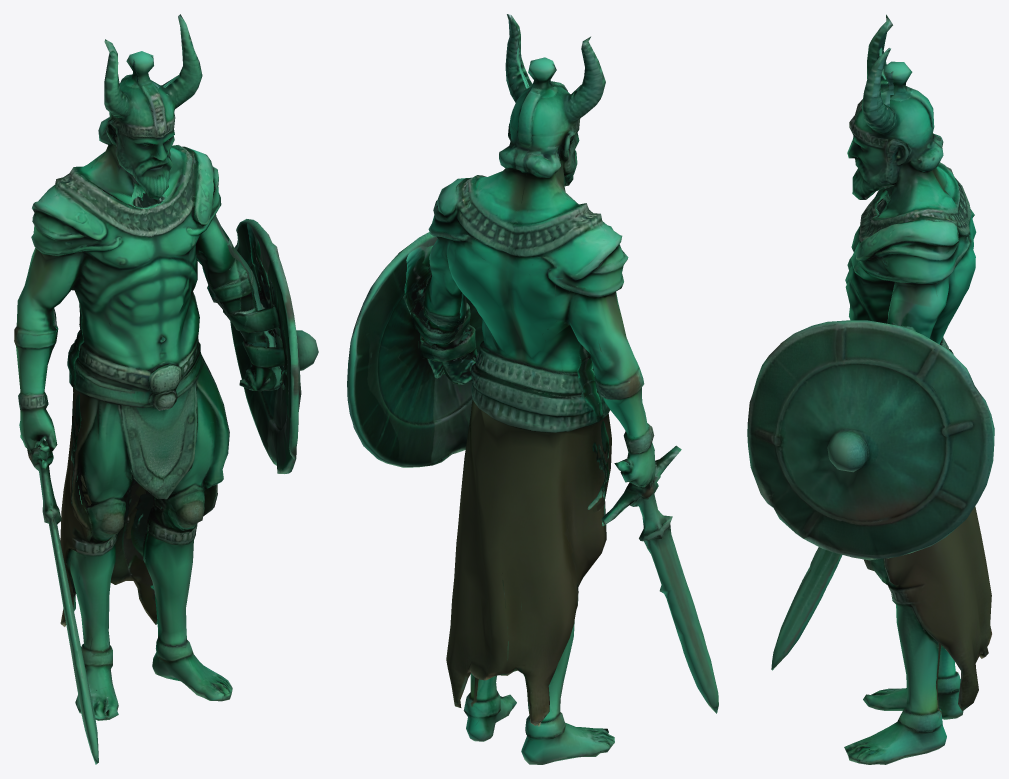
Rendered from shardano.glb.
The picture shows the model from 3 angles, left to right: view 1: azimuth 30°, elevation 25°; view 2: azimuth 150°, elevation 25°; view 3: azimuth 270°, elevation 25°; orthographic projection. The views are drawn at different scales.
Parts seen in each view (by area): view 1: Mesh1.0; view 2: Mesh1.0; view 3: Mesh1.0.
Boxes of the visible parts, x1=… form: Mesh1.0: x1=14, y1=14, x2=318, y2=764; Mesh1.0: x1=347, y1=14, x2=718, y2=764; Mesh1.0: x1=747, y1=14, x2=994, y2=764.
Size of the model in its own units: 0.8272 by 2 by 0.6427.
1 material, 1 textured.
